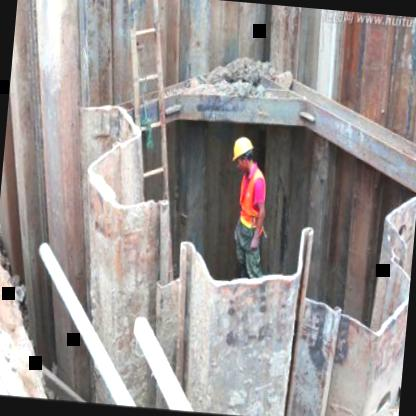helmet: (228, 132, 258, 178)
